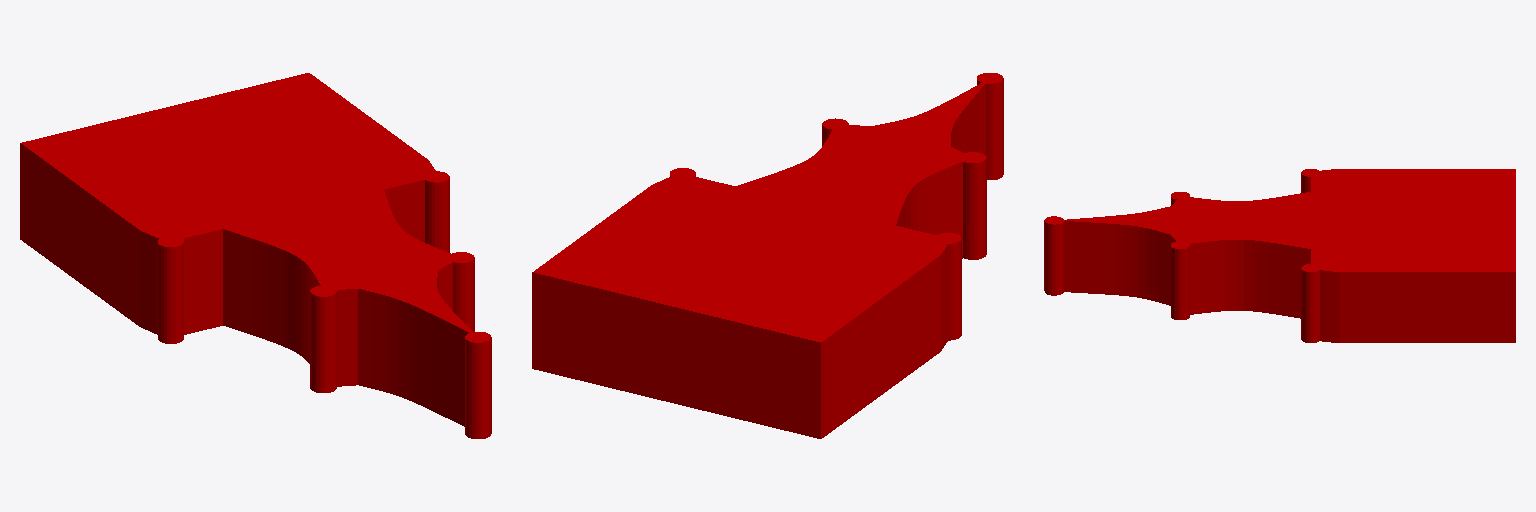
URDF robot description (triangle):
<?xml version="1.0" ?>
<robot name="triangle">
  <link name="baseLink">
    <contact>
      <lateral_friction value="0.2"/>
      <rolling_friction value="0.0"/>
	<restitution value="0.0" />
    </contact>
    <inertial>
      <origin rpy="0 0 0" xyz="0 0 0"/>
       <mass value="10"/>
       <inertia ixx="0" ixy="0" ixz="0" iyy="0" iyz="0" izz="0"/>
    </inertial>
    <visual>
      <origin rpy="0 0 0" xyz="0 0 0"/>
      <geometry>
		<mesh filename="./peg_3.obj" scale="0.1 0.1 0.1"/>
      </geometry>
       <material name="red">
        <color rgba="0.8 0 0 1"/>
      </material>
    </visual>
    <collision>
      <origin rpy="0 0 0" xyz="0 0 0"/>
      <geometry>
	 	<mesh filename="./peg_3.obj" scale="0.1 0.1 0.1"/>
      </geometry>
    </collision>
  </link>
</robot>

--- Render facts (derived) ---
Views: 3 orthographic renders of the robot side by side, from view 1: azimuth 30°, elevation 25°; view 2: azimuth 150°, elevation 25°; view 3: azimuth 270°, elevation 25°.
Robot: triangle — 1 links, 0 joints (none); root link baseLink; default pose: all joints at 0.
Links seen in each view (by area): view 1: baseLink; view 2: baseLink; view 3: baseLink.
Boxes of the visible links, x1=… form: baseLink: x1=20, y1=73, x2=491, y2=438; baseLink: x1=532, y1=73, x2=1003, y2=438; baseLink: x1=1044, y1=169, x2=1515, y2=342.
Bounding box of the posed robot: 0.6248 × 1.2 × 0.2 m (x, y, z).
Meshes: 1 distinct files referenced, 1 mesh visuals loaded (1 OBJ).